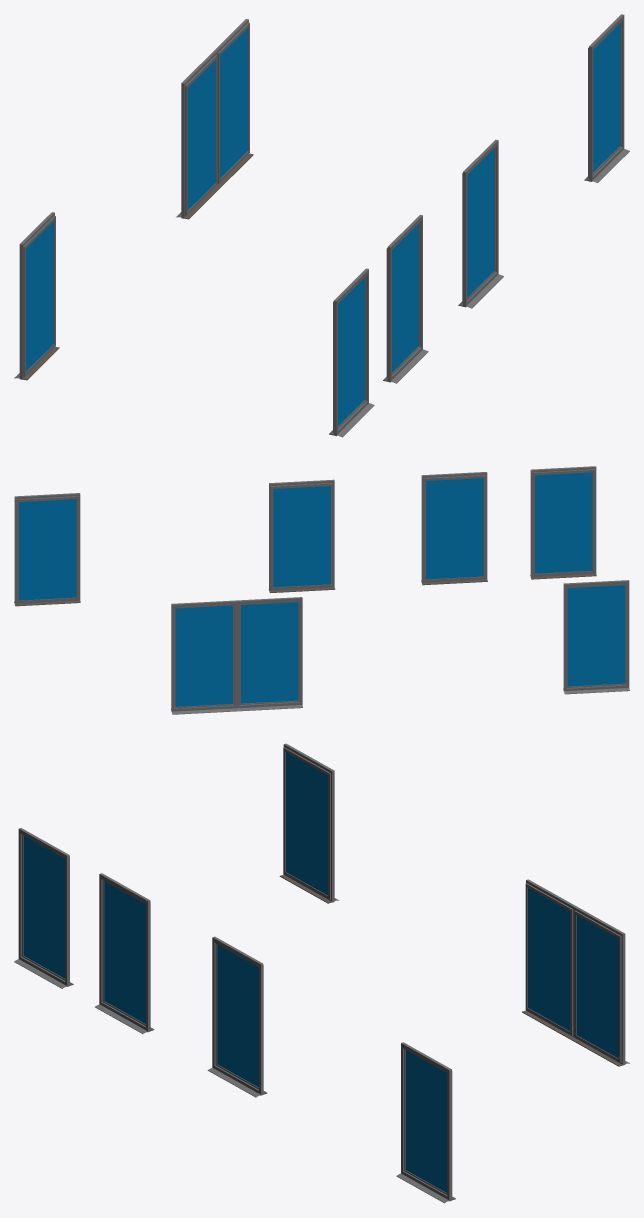
Rendered from rac_basic_sample_project_Level_2_IfcWindow.dae.
3 renders of one model, top to bottom at view 1: azimuth 30°, elevation 25°; view 2: azimuth 150°, elevation 25°; view 3: azimuth 270°, elevation 25°, orthographic. The views are drawn at different scales.
Parts seen in each view (by area): view 1: 1ikhyTwD17yAnDcdaZ57O9, 1ikhyTwD17yAnDcdaZ57Pn, 2Lyq8QMkH4ges0Q77HE131, 0ELdlxJuP1AwzgUXpRT7iS, 1jq3WIaE92UPTHNxmrWmzx, 1ikhyTwD17yAnDcdaZ57Om, 0c0us5oRfBJgddHOG86fE2; view 2: 0ELdlxJuP1AwzgUXpRT7iS, 1ikhyTwD17yAnDcdaZ57Om, 1ikhyTwD17yAnDcdaZ57Pn, 2Lyq8QMkH4ges0Q77HE131, 0c0us5oRfBJgddHOG86fE2, 1jq3WIaE92UPTHNxmrWmzx, 1ikhyTwD17yAnDcdaZ57O9; view 3: 2Lyq8QMkH4ges0Q77HE131, 1ikhyTwD17yAnDcdaZ57O9, 1ikhyTwD17yAnDcdaZ57Om, 1ikhyTwD17yAnDcdaZ57Pn, 0ELdlxJuP1AwzgUXpRT7iS, 0c0us5oRfBJgddHOG86fE2, 1jq3WIaE92UPTHNxmrWmzx.
Part boxes in pixels (left/top/right/bottom): 1ikhyTwD17yAnDcdaZ57O9: left=458, top=139, right=503, bottom=308; 1ikhyTwD17yAnDcdaZ57Pn: left=584, top=14, right=629, bottom=182; 2Lyq8QMkH4ges0Q77HE131: left=383, top=215, right=428, bottom=383; 0ELdlxJuP1AwzgUXpRT7iS: left=14, top=212, right=59, bottom=380; 1jq3WIaE92UPTHNxmrWmzx: left=176, top=51, right=221, bottom=219; 1ikhyTwD17yAnDcdaZ57Om: left=329, top=268, right=374, bottom=437; 0c0us5oRfBJgddHOG86fE2: left=214, top=19, right=253, bottom=186; 0ELdlxJuP1AwzgUXpRT7iS: left=563, top=580, right=629, bottom=694; 1ikhyTwD17yAnDcdaZ57Om: left=530, top=466, right=596, bottom=579; 1ikhyTwD17yAnDcdaZ57Pn: left=14, top=493, right=80, bottom=606; 2Lyq8QMkH4ges0Q77HE131: left=421, top=472, right=487, bottom=585; 0c0us5oRfBJgddHOG86fE2: left=171, top=600, right=237, bottom=714; 1jq3WIaE92UPTHNxmrWmzx: left=237, top=597, right=302, bottom=711; 1ikhyTwD17yAnDcdaZ57O9: left=269, top=479, right=335, bottom=593; 2Lyq8QMkH4ges0Q77HE131: left=95, top=873, right=154, bottom=1033; 1ikhyTwD17yAnDcdaZ57O9: left=207, top=936, right=267, bottom=1097; 1ikhyTwD17yAnDcdaZ57Om: left=14, top=828, right=73, bottom=988; 1ikhyTwD17yAnDcdaZ57Pn: left=396, top=1042, right=455, bottom=1203; 0ELdlxJuP1AwzgUXpRT7iS: left=279, top=743, right=339, bottom=903; 0c0us5oRfBJgddHOG86fE2: left=570, top=906, right=629, bottom=1066; 1jq3WIaE92UPTHNxmrWmzx: left=522, top=879, right=576, bottom=1038.
Bounding box in the file's own units: 14.54 × 11.48 × 2.71.
